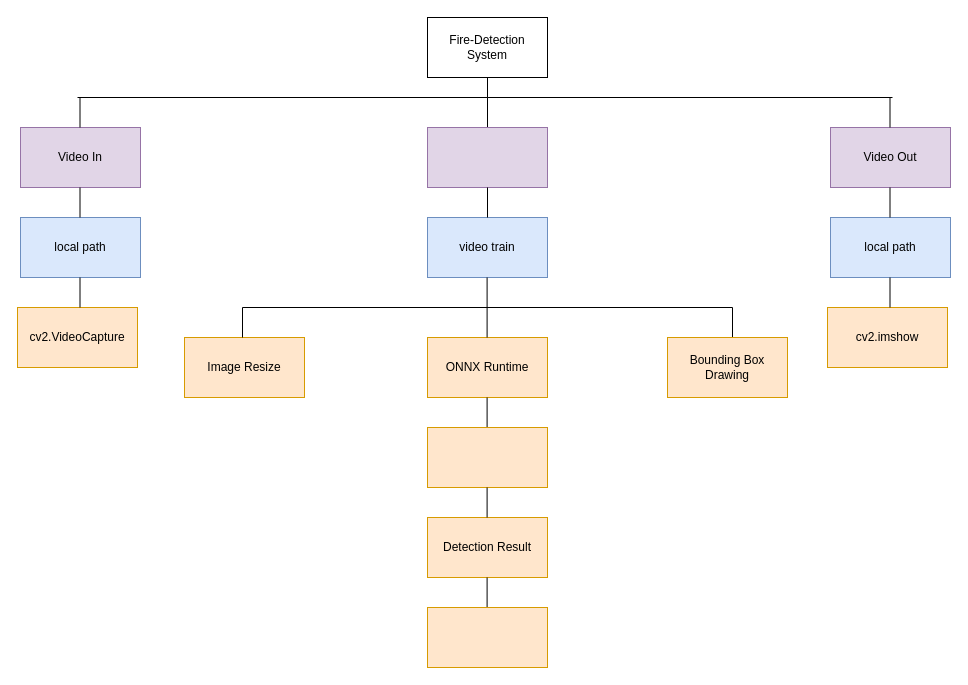
This 968x685 diagram has some shape labels left out. Here are the shapes that lost their labels. From the top down, the box of each, then its label:
(426, 126, 548, 188): video process
(426, 426, 548, 488): YOLOv8n Model
(426, 606, 548, 668): CSV Logging / Event Record
